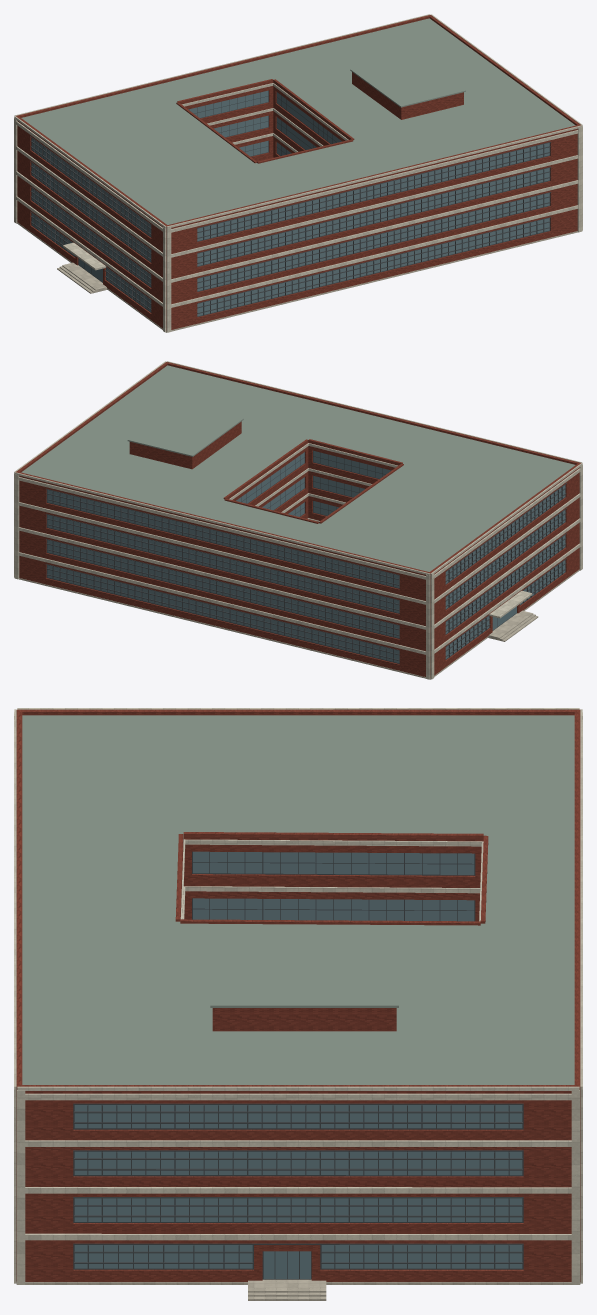
3 renders of one model, top to bottom at view 1: azimuth 30°, elevation 25°; view 2: azimuth 150°, elevation 25°; view 3: azimuth 270°, elevation 25°, orthographic. The views are drawn at different scales.
Visible parts, largest first — view 1: library__roof, library__brick, library__glass, library__frame, library__trim, library__stone; view 2: library__roof, library__brick, library__glass, library__frame, library__trim, library__stone; view 3: library__roof, library__brick, library__glass, library__trim, library__frame, library__stone, library__stair-north-candidate, library__threshold-north-candidate.
Part boxes in pixels (x1=…): library__roof: x1=21, y1=18, x2=575, y2=224; library__brick: x1=16, y1=15, x2=580, y2=330; library__glass: x1=32, y1=90, x2=549, y2=316; library__frame: x1=30, y1=90, x2=551, y2=316; library__trim: x1=14, y1=14, x2=582, y2=332; library__stone: x1=17, y1=222, x2=577, y2=332; library__roof: x1=21, y1=365, x2=575, y2=571; library__brick: x1=16, y1=362, x2=580, y2=677; library__glass: x1=47, y1=450, x2=565, y2=663; library__frame: x1=45, y1=451, x2=566, y2=663; library__trim: x1=14, y1=361, x2=582, y2=679; library__stone: x1=19, y1=569, x2=579, y2=679; library__roof: x1=22, y1=715, x2=574, y2=1084; library__brick: x1=16, y1=709, x2=580, y2=1281; library__glass: x1=74, y1=839, x2=522, y2=1278; library__trim: x1=14, y1=708, x2=582, y2=1284; library__frame: x1=73, y1=851, x2=523, y2=1279; library__stone: x1=16, y1=1282, x2=580, y2=1284; library__stair-north-candidate: x1=248, y1=1288, x2=326, y2=1300; library__threshold-north-candidate: x1=248, y1=1279, x2=326, y2=1288.
Size of the model in its own units: 78.53 by 19.98 by 46.38.
Materials: 6 (3 with a texture image).
